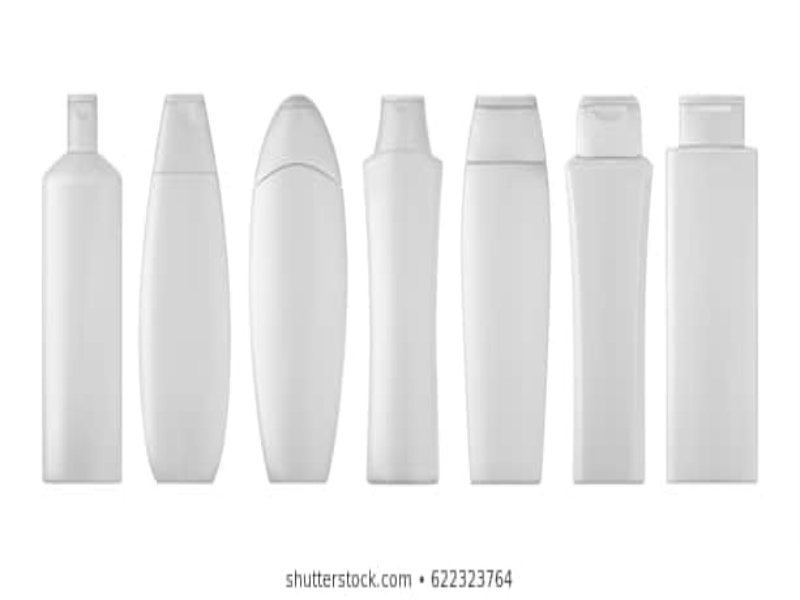shampoo-bottle: (665, 91, 761, 491), (250, 92, 346, 485), (459, 92, 553, 489), (39, 92, 132, 485), (562, 93, 655, 486), (136, 91, 229, 484), (358, 95, 450, 490)
